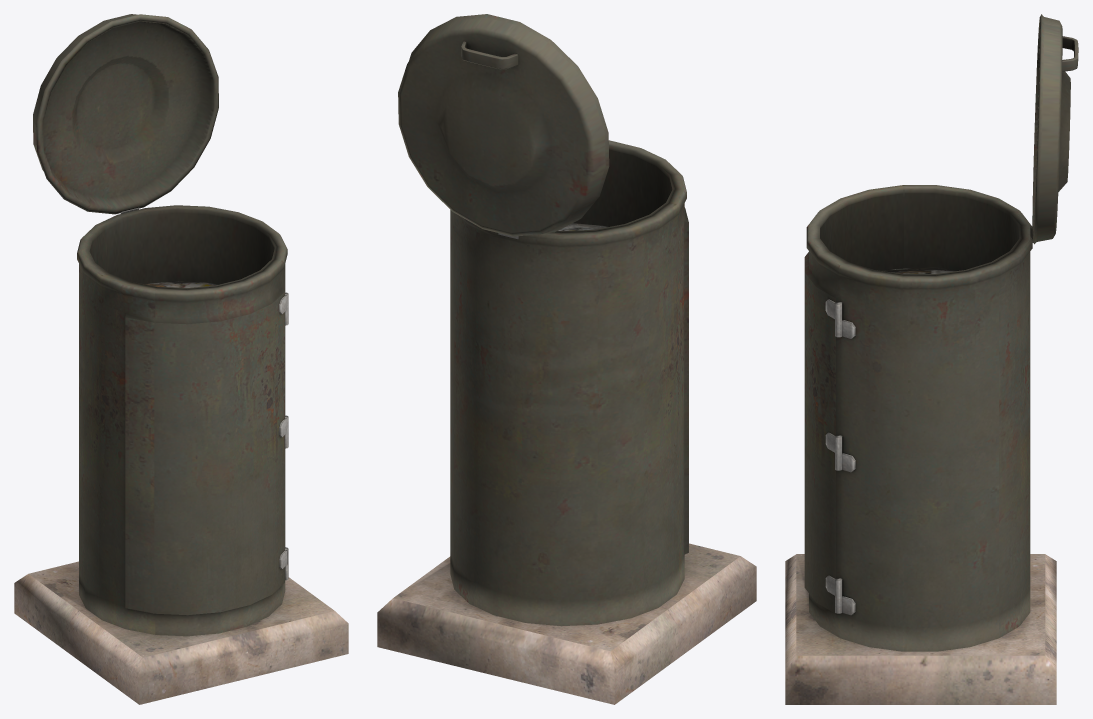
Rendered from muelleimer_offen_0001a.fbx.
3 views of the same model, side by side, from view 1: azimuth 30°, elevation 25°; view 2: azimuth 150°, elevation 25°; view 3: azimuth 270°, elevation 25° (orthographic). The views are drawn at different scales.
Visible parts, largest first — view 1: Mesh; view 2: Mesh; view 3: Mesh.
Part boxes in pixels (x1=…): Mesh: x1=14, y1=14, x2=348, y2=704; Mesh: x1=377, y1=14, x2=756, y2=704; Mesh: x1=785, y1=14, x2=1078, y2=704.
Bounding box in the file's own units: 61.27 × 161 × 68.61.
